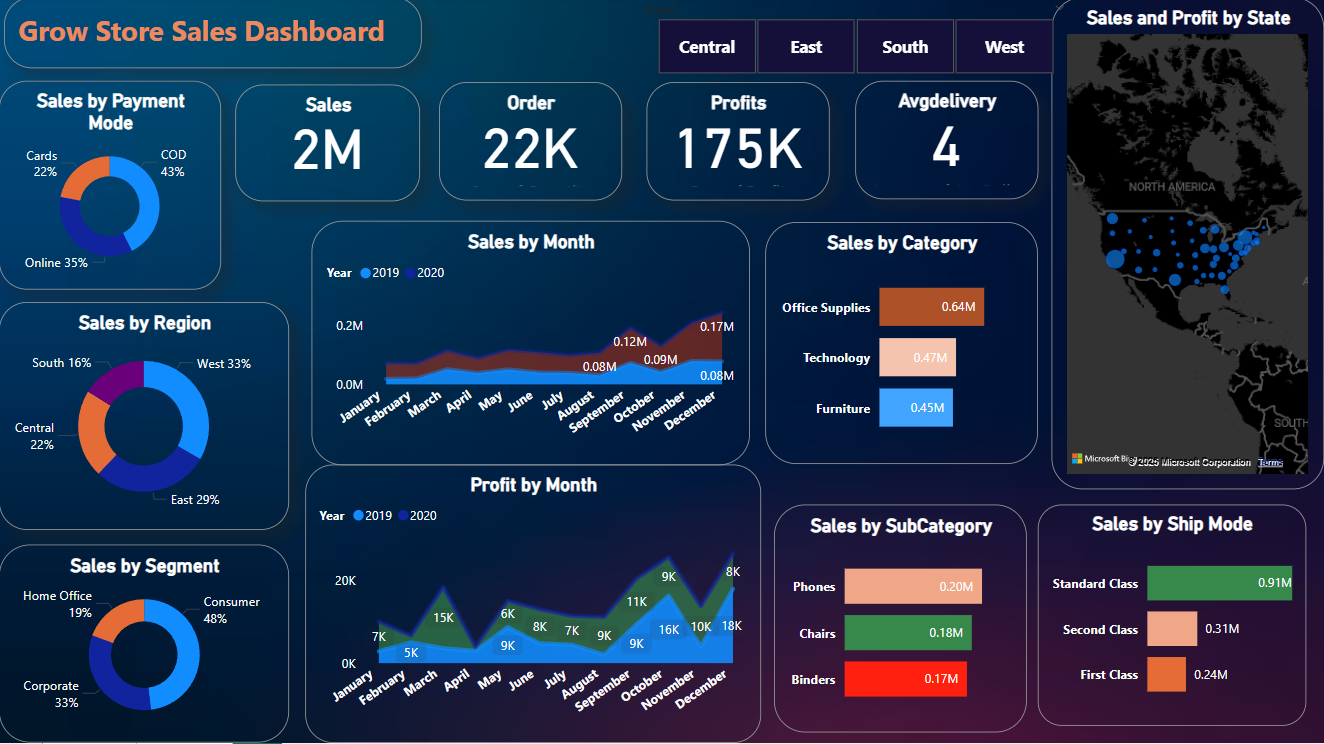

This screenshot's page, from the dashboard's own definition file:
{"tool":"powerbi","page":{"name":"Page 1","canvas":[1280,720],"ordinal":0},"visuals":[{"type":"clusteredBarChart","title":" Sales by Category","fields":{"Category":["SuperStore_Sales_Dataset.Category"],"Y":["Sum(SuperStore_Sales_Dataset.Sales)"]},"box":[739.7,217.6,263.2,233.8],"z":0},{"type":"clusteredBarChart","title":" Sales by SubCategory","fields":{"Category":["SuperStore_Sales_Dataset.Sub-Category"],"Y":["Sum(SuperStore_Sales_Dataset.Sales)"]},"box":[748.6,490,244.3,220],"z":1000},{"type":"clusteredBarChart","title":" Sales by Ship Mode","fields":{"Category":["SuperStore_Sales_Dataset.Ship Mode"],"Y":["Sum(SuperStore_Sales_Dataset.Sales)"]},"box":[1002.9,489.7,258.8,213.2],"z":2000},{"type":"stackedAreaChart","title":"Sales by Month","fields":{"Category":["SuperStore_Sales_Dataset.Order Date.Variation.Date Hierarchy.Month","SuperStore_Sales_Dataset.Order Date.Variation.Date Hierarchy.Day"],"Y":["Sum(SuperStore_Sales_Dataset.Sales)"],"Series":["SuperStore_Sales_Dataset.Order Date.Variation.Date Hierarchy.Year"]},"box":[301.4,215.7,422.9,235.7],"z":3000},{"type":"stackedAreaChart","title":"Profit by Month","fields":{"Category":["SuperStore_Sales_Dataset.Order Date.Variation.Date Hierarchy.Month","SuperStore_Sales_Dataset.Order Date.Variation.Date Hierarchy.Day"],"Series":["SuperStore_Sales_Dataset.Order Date.Variation.Date Hierarchy.Year"],"Y":["Sum(SuperStore_Sales_Dataset.Profit)"]},"box":[295.6,451.5,439.7,269.1],"z":4000},{"type":"map","title":"Sales and  Profit by State","fields":{"Category":["SuperStore_Sales_Dataset.State"],"Size":["Sum(SuperStore_Sales_Dataset.Sales)"]},"box":[1016.2,0,263.2,475],"z":5000},{"type":"donutChart","title":" Sales by Segment","fields":{"Category":["SuperStore_Sales_Dataset.Segment"],"Y":["Sum(SuperStore_Sales_Dataset.Sales)"]},"box":[0,528.6,280,191.4],"z":6000},{"type":"donutChart","title":"Sales by Payment Mode","fields":{"Category":["SuperStore_Sales_Dataset.Payment Mode"],"Y":["Sum(SuperStore_Sales_Dataset.Sales)"]},"box":[0,81.4,214.3,201.4],"z":7000},{"type":"slicer","fields":{"Values":["SuperStore_Sales_Dataset.Region"]},"box":[610.3,0,430.9,80.9],"z":8000},{"type":"textbox","box":[4.4,0,402.9,69.1],"z":9000},{"type":"card","title":"Sales","fields":{"Values":["Sum(SuperStore_Sales_Dataset.Sales)"]},"box":[228.6,84.3,178.6,112.9],"z":10000},{"type":"card","title":"Order","fields":{"Values":["Sum(SuperStore_Sales_Dataset.Quantity)"]},"box":[425,82.4,176.5,114.7],"z":11000},{"type":"card","title":"Profits","fields":{"Values":["Sum(SuperStore_Sales_Dataset.Profit)"]},"box":[625,82.4,176.5,114.7],"z":12000},{"type":"card","title":"Avgdelivery","fields":{"Values":["Avg(SuperStore_Sales_Dataset.AvgDelivery)"]},"box":[826.5,80.9,176.5,114.7],"z":13000},{"type":"donutChart","title":" Sales by Region","fields":{"Category":["SuperStore_Sales_Dataset.Region"],"Y":["Sum(SuperStore_Sales_Dataset.Sales)"]},"box":[0,294.3,280,220],"z":14000}]}

Visuals, with their boxes in screenshot pixels (x1, y1, x2, y2), scaled from the page's 1280x720 canvas onto the 1324x744 screenshot:
" Sales by Category" clusteredBarChart: <box>765,225,1037,466</box>
" Sales by SubCategory" clusteredBarChart: <box>774,506,1027,734</box>
" Sales by Ship Mode" clusteredBarChart: <box>1037,506,1305,726</box>
"Sales by Month" stackedAreaChart: <box>312,223,749,466</box>
"Profit by Month" stackedAreaChart: <box>306,467,761,743</box>
"Sales and  Profit by State" map: <box>1051,0,1323,491</box>
" Sales by Segment" donutChart: <box>0,546,290,743</box>
"Sales by Payment Mode" donutChart: <box>0,84,222,292</box>
slicer - SuperStore_Sales_Dataset.Region: <box>631,0,1077,84</box>
textbox: <box>5,0,421,71</box>
"Sales" card: <box>236,87,421,204</box>
"Order" card: <box>440,85,622,204</box>
"Profits" card: <box>646,85,829,204</box>
"Avgdelivery" card: <box>855,84,1037,202</box>
" Sales by Region" donutChart: <box>0,304,290,531</box>
